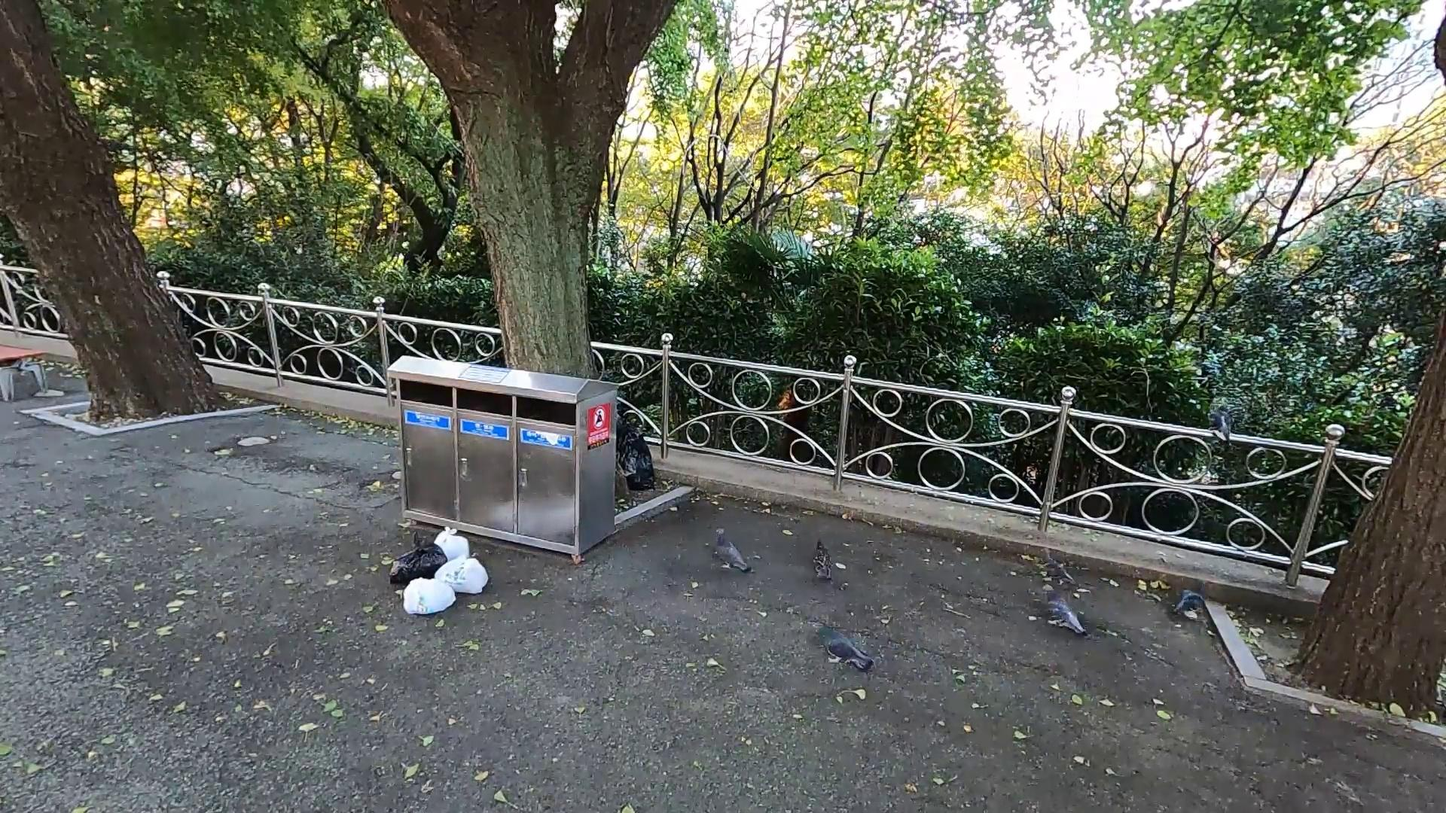trash: (618, 408, 660, 493), (396, 568, 459, 622), (388, 531, 450, 585), (436, 547, 492, 597), (431, 524, 476, 560)
